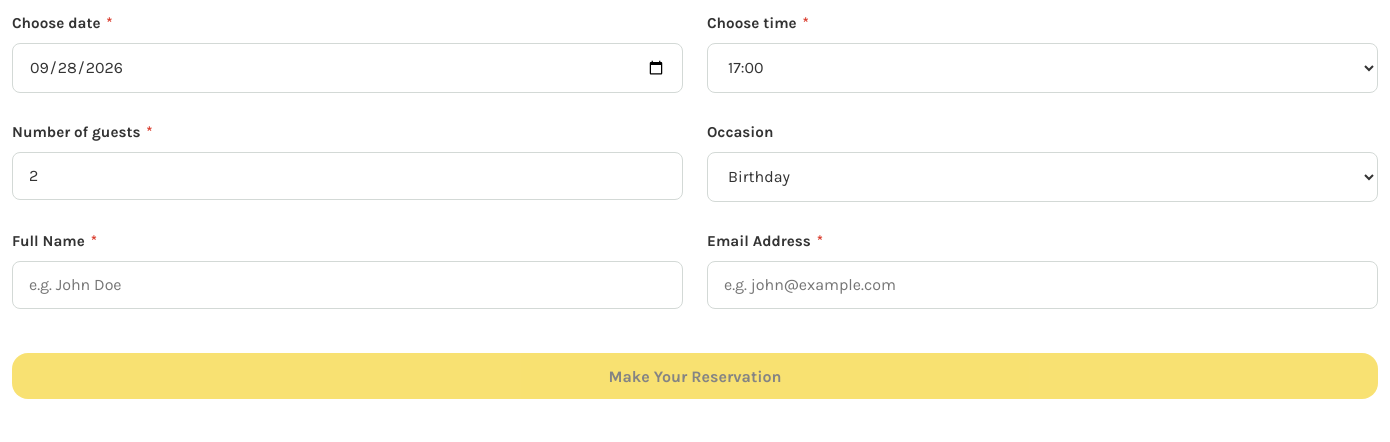
Test: Form validation logic › shows error when guests exceed 10
Replace the text in the number field labelled "Number of guests *" with "15" at coordinates (348, 176), box [12, 152, 683, 200]
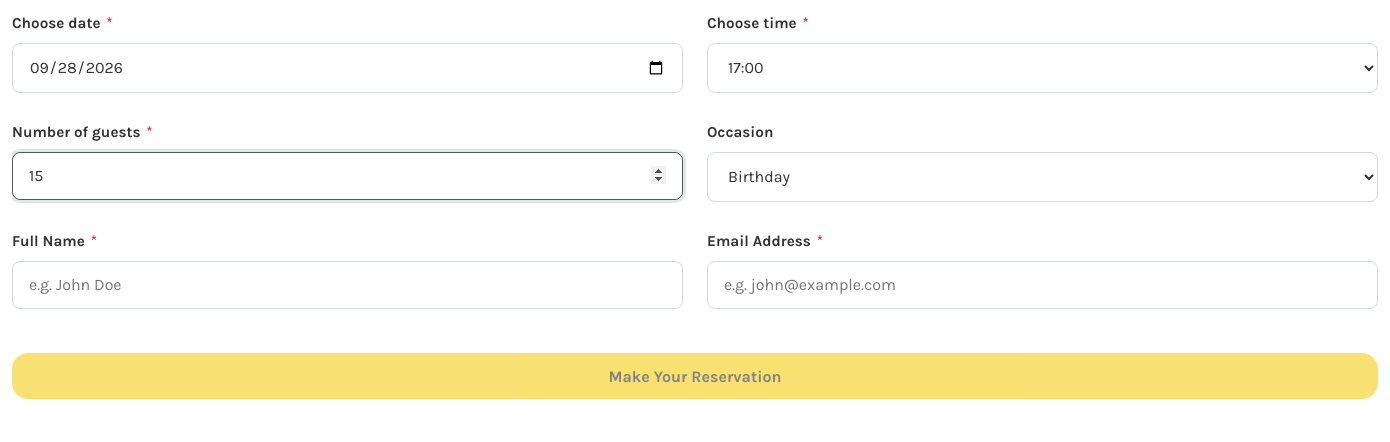
Press Tab
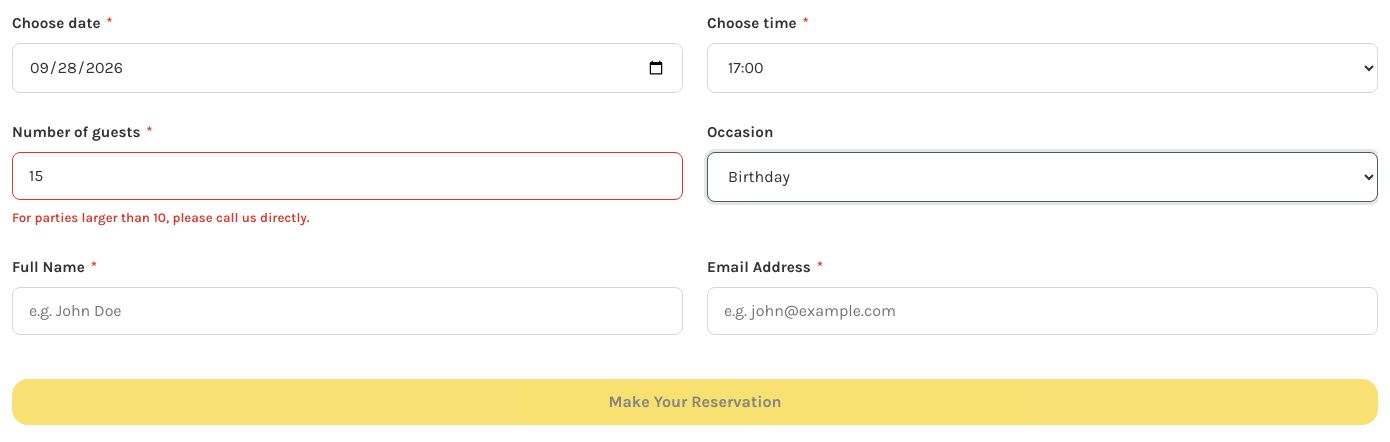
expect the text "For parties larger than 10, please call us directly." is shown: met, box [12, 210, 310, 225]
